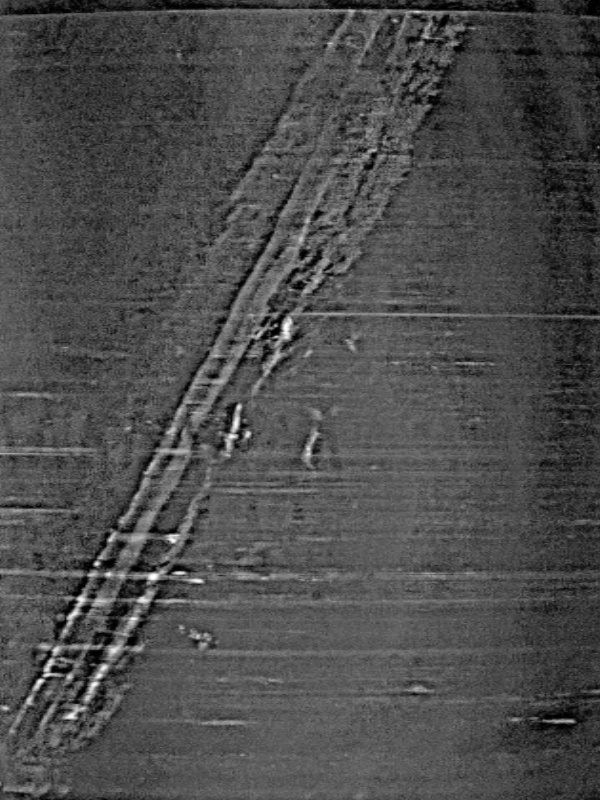splice_vulcanized: (1, 12, 467, 793)
